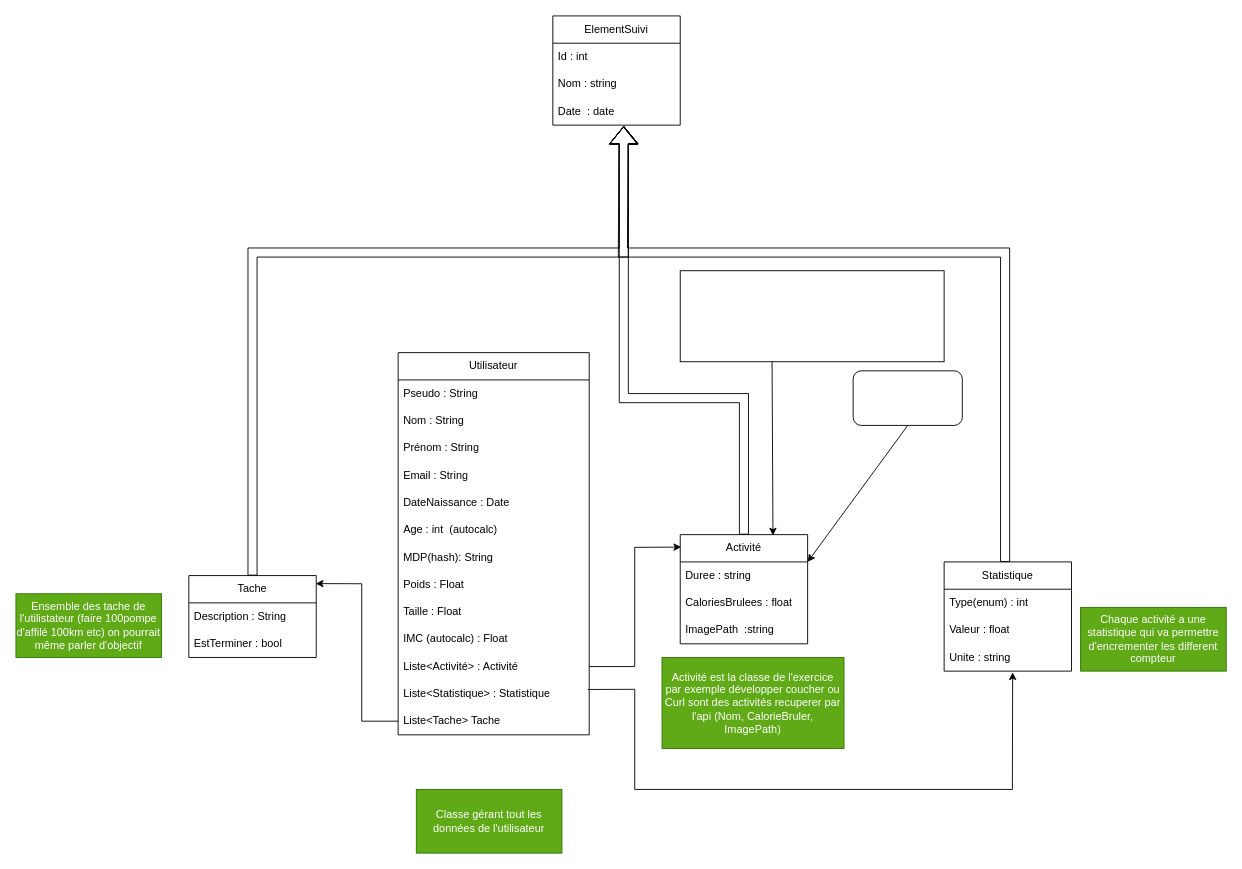
Image size: 1242x869. Some labels were removed from this diagram. Each missing label, with the centre of its shape:
<<IStatGenerable>> Interface List<Statistique> GenererStatistiques();: point 811,316
API Wger Workout Manager API: point 907,397
